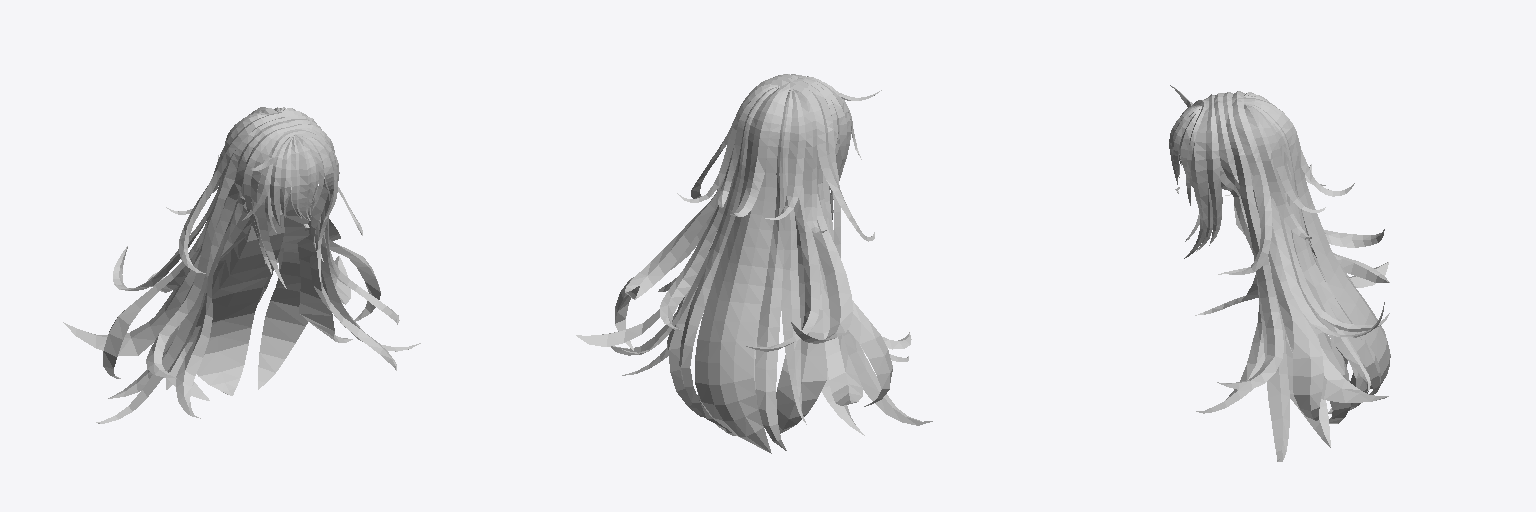
File: hair.obj
The picture shows the model from 3 angles: view 1: azimuth 30°, elevation 25°; view 2: azimuth 150°, elevation 25°; view 3: azimuth 270°, elevation 25°; orthographic projection.
Visible parts, largest first — view 1: H_Back_2_mtr_G11_V100.029, H_Side_0_mtr_G11_V100.026, H_Front_1_mtr_G11_V100.025, H_Back_1_mtr_G11_V100.028, H_Front_0_mtr_G11_V100.024, H_Back_0_mtr_G11_V100.027; view 2: H_Back_0_mtr_G11_V100.027, H_Back_1_mtr_G11_V100.028, H_Side_0_mtr_G11_V100.026, H_Back_2_mtr_G11_V100.029, H_Front_1_mtr_G11_V100.025; view 3: H_Back_0_mtr_G11_V100.027, H_Side_0_mtr_G11_V100.026, H_Back_1_mtr_G11_V100.028, H_Front_1_mtr_G11_V100.025, H_Back_2_mtr_G11_V100.029, H_Front_0_mtr_G11_V100.024.
Boxes of the visible parts, <box> form: H_Back_2_mtr_G11_V100.029: <box>108,193,352,400</box>; H_Side_0_mtr_G11_V100.026: <box>96,115,420,423</box>; H_Front_1_mtr_G11_V100.025: <box>176,124,396,418</box>; H_Back_1_mtr_G11_V100.028: <box>63,175,350,355</box>; H_Front_0_mtr_G11_V100.024: <box>250,134,333,225</box>; H_Back_0_mtr_G11_V100.027: <box>156,107,362,389</box>; H_Back_0_mtr_G11_V100.027: <box>622,80,874,453</box>; H_Back_1_mtr_G11_V100.028: <box>576,163,862,405</box>; H_Side_0_mtr_G11_V100.026: <box>611,74,932,425</box>; H_Back_2_mtr_G11_V100.029: <box>622,216,864,435</box>; H_Front_1_mtr_G11_V100.025: <box>778,74,908,361</box>; H_Back_0_mtr_G11_V100.027: <box>1224,91,1390,394</box>; H_Side_0_mtr_G11_V100.026: <box>1214,92,1323,461</box>; H_Back_1_mtr_G11_V100.028: <box>1248,164,1389,402</box>; H_Front_1_mtr_G11_V100.025: <box>1184,94,1264,413</box>; H_Back_2_mtr_G11_V100.029: <box>1234,202,1371,447</box>; H_Front_0_mtr_G11_V100.024: <box>1169,85,1201,187</box>.
Size of the model in its own units: 0.7486 by 0.688 by 0.4364.